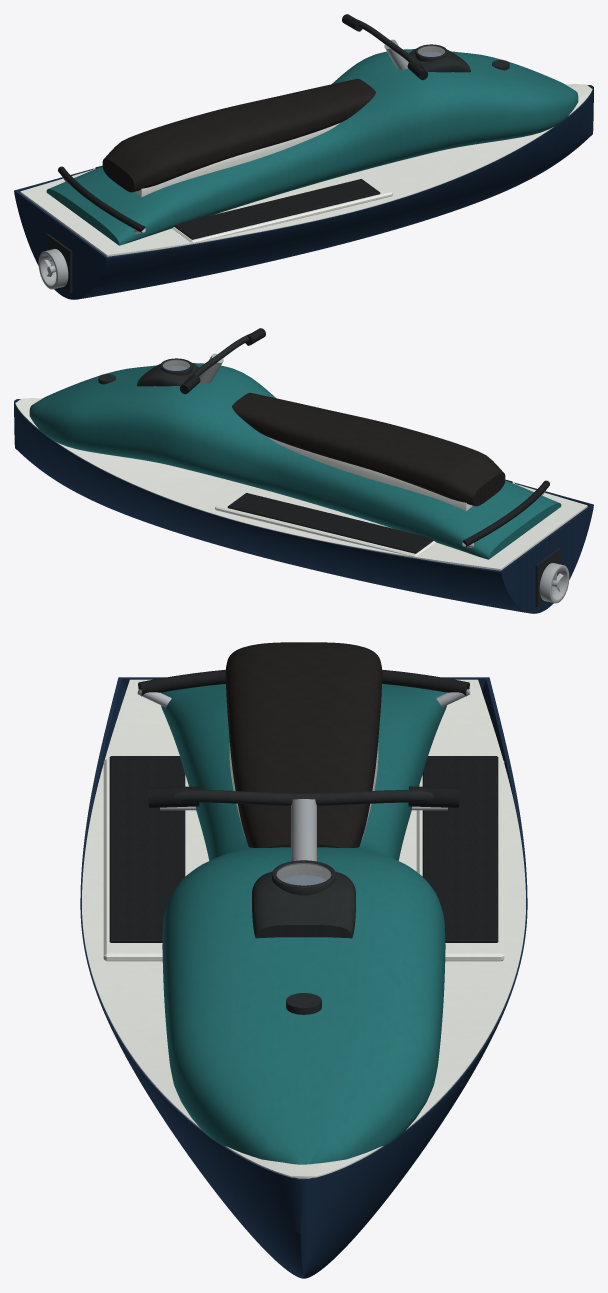
The model's file is pwc-cc0.glb.
3 renders of one model, top to bottom at view 1: azimuth 30°, elevation 25°; view 2: azimuth 150°, elevation 25°; view 3: azimuth 270°, elevation 25°, orthographic. The views are drawn at different scales.
Visible parts, largest first — view 1: Personal watercraft sculpted upper body, Personal watercraft finite hull with actual pump outlet, Personal watercraft curved tandem saddle, Personal watercraft closed perimeter deck with seat access o, Personal watercraft footwell-1 non-slip mat, Personal watercraft seated saddle spine, Personal watercraft footwell-1 structural floor, Personal watercraft finite recessed jet nozzle, Personal watercraft closed instrument pod with recessed disp, Personal watercraft attached rear grab rail, Personal watercraft pump mounting collar, Personal watercraft finite handlebar; view 2: Personal watercraft sculpted upper body, Personal watercraft finite hull with actual pump outlet, Personal watercraft curved tandem saddle, Personal watercraft closed perimeter deck with seat access o, Personal watercraft footwell1 non-slip mat, Personal watercraft seated saddle spine, Personal watercraft footwell1 structural floor, Personal watercraft finite recessed jet nozzle, Personal watercraft closed instrument pod with recessed disp, Personal watercraft attached rear grab rail, Personal watercraft pump mounting collar, Personal watercraft finite handlebar; view 3: Personal watercraft sculpted upper body, Personal watercraft closed perimeter deck with seat access o, Personal watercraft curved tandem saddle, Personal watercraft finite hull with actual pump outlet, Personal watercraft footwell1 non-slip mat, Personal watercraft footwell-1 non-slip mat, Personal watercraft closed instrument pod with recessed disp, Personal watercraft finite handlebar, Personal watercraft footwell1 structural floor, Personal watercraft footwell-1 structural floor, Personal watercraft attached rear grab rail, Personal watercraft steering column (+4 smaller).
Boxes of the visible parts, x1,y1,x2,y2 form: Personal watercraft sculpted upper body: (46,49,578,245); Personal watercraft finite hull with actual pump outlet: (14,85,593,299); Personal watercraft curved tandem saddle: (102,78,375,192); Personal watercraft closed perimeter deck with seat access o: (20,84,592,256); Personal watercraft footwell-1 non-slip mat: (174,179,380,239); Personal watercraft seated saddle spine: (135,123,339,197); Personal watercraft footwell-1 structural floor: (172,177,392,243); Personal watercraft finite recessed jet nozzle: (38,249,68,289); Personal watercraft closed instrument pod with recessed disp: (408,47,470,72); Personal watercraft attached rear grab rail: (58,166,145,232); Personal watercraft pump mounting collar: (46,234,72,292); Personal watercraft finite handlebar: (357,19,420,65); Personal watercraft sculpted upper body: (29,363,561,559); Personal watercraft finite hull with actual pump outlet: (14,399,593,613); Personal watercraft curved tandem saddle: (232,392,505,506); Personal watercraft closed perimeter deck with seat access o: (15,398,587,570); Personal watercraft footwell1 non-slip mat: (227,493,433,553); Personal watercraft seated saddle spine: (268,437,472,511); Personal watercraft footwell1 structural floor: (215,491,435,557); Personal watercraft finite recessed jet nozzle: (539,563,569,603); Personal watercraft closed instrument pod with recessed disp: (137,361,199,386); Personal watercraft attached rear grab rail: (462,480,549,546); Personal watercraft pump mounting collar: (535,548,561,606); Personal watercraft finite handlebar: (187,333,250,379); Personal watercraft sculpted upper body: (161,684,446,1164); Personal watercraft closed perimeter deck with seat access o: (82,679,525,1178); Personal watercraft curved tandem saddle: (225,642,382,847); Personal watercraft finite hull with actual pump outlet: (80,677,527,1278); Personal watercraft footwell1 non-slip mat: (422,756,498,942); Personal watercraft footwell-1 non-slip mat: (109,756,185,942); Personal watercraft closed instrument pod with recessed disp: (252,870,355,938); Personal watercraft finite handlebar: (174,790,433,805); Personal watercraft footwell1 structural floor: (416,759,504,961); Personal watercraft footwell-1 structural floor: (103,759,191,961); Personal watercraft attached rear grab rail: (138,669,469,696); Personal watercraft steering column: (291,799,316,861).
Bounding box in the file's own units: 3.38 × 1.06 × 1.2.
Materials: 9 (9 with a texture image).
